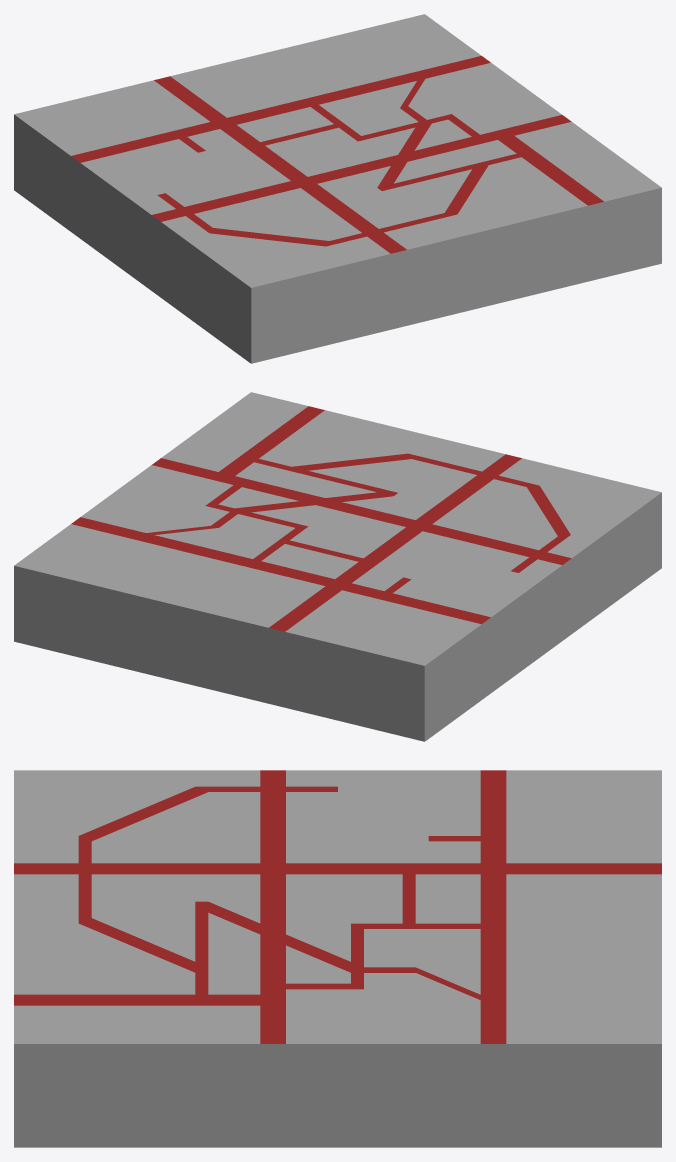
Rendered from map_test.fbx.
The picture shows the model from 3 angles, top to bottom: view 1: azimuth 30°, elevation 25°; view 2: azimuth 150°, elevation 25°; view 3: azimuth 270°, elevation 25°; orthographic projection. The views are drawn at different scales.
Parts seen in each view (by area): view 1: pCube25; view 2: pCube25; view 3: pCube25.
Boxes of the visible parts, x1,y1,x2,y2 form: pCube25: (14, 14, 661, 363); pCube25: (14, 392, 661, 741); pCube25: (14, 770, 661, 1147).
Size of the model in its own units: 19583 by 3459 by 19583.
